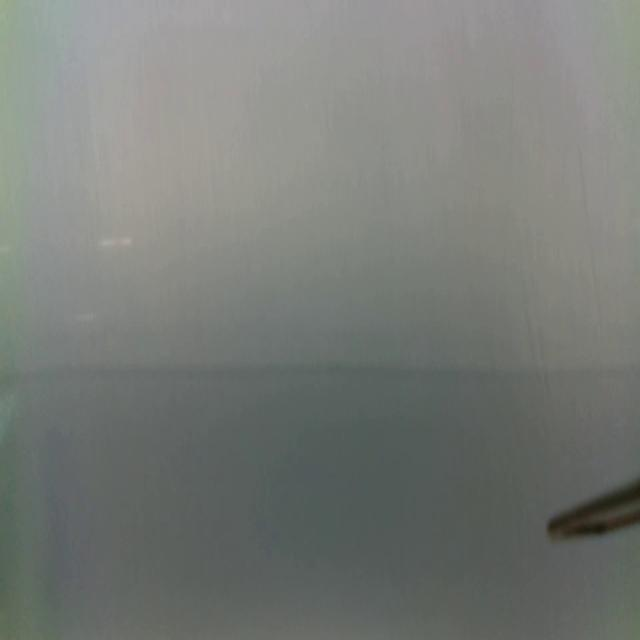color bleeding: (1, 350, 640, 408)
